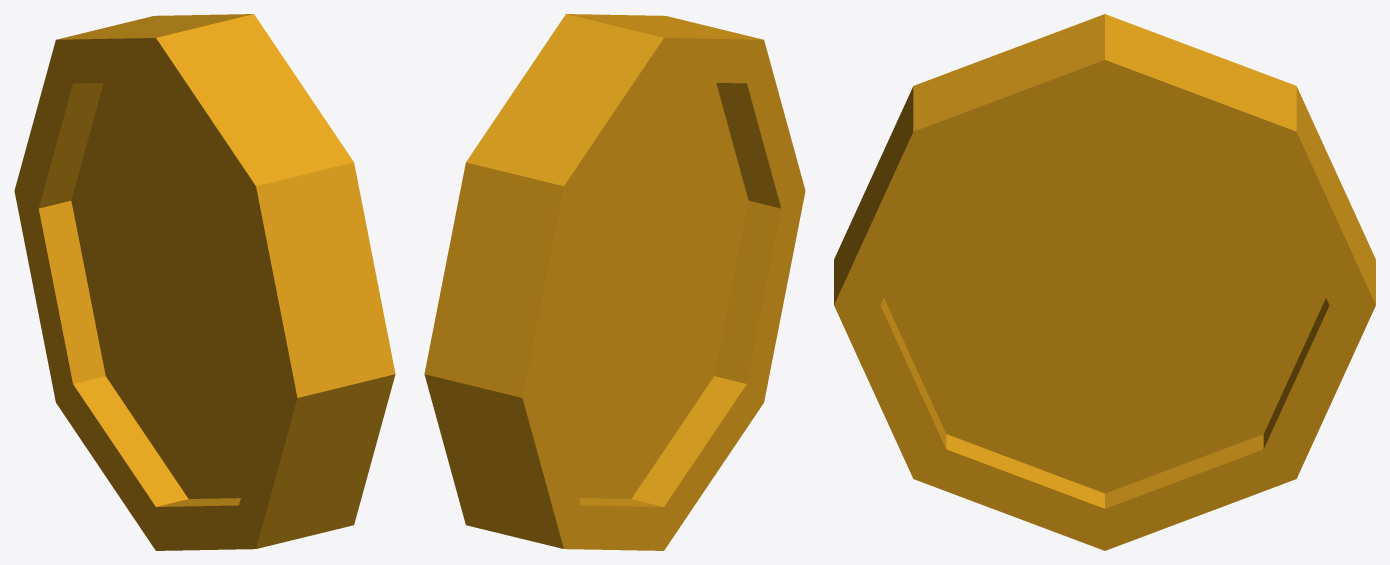
File: modena.fbx
3 views of the same model, side by side, from view 1: azimuth 30°, elevation 25°; view 2: azimuth 150°, elevation 25°; view 3: azimuth 270°, elevation 25° (orthographic). The views are drawn at different scales.
Parts seen in each view (by area): view 1: Cylinder; view 2: Cylinder; view 3: Cylinder.
Part boxes in pixels (box(x1,y1,x2,y2)): Cylinder: box(14, 14, 395, 550); Cylinder: box(424, 14, 805, 550); Cylinder: box(834, 14, 1375, 550).
Bounding box in the file's own units: 40 × 200 × 200.
